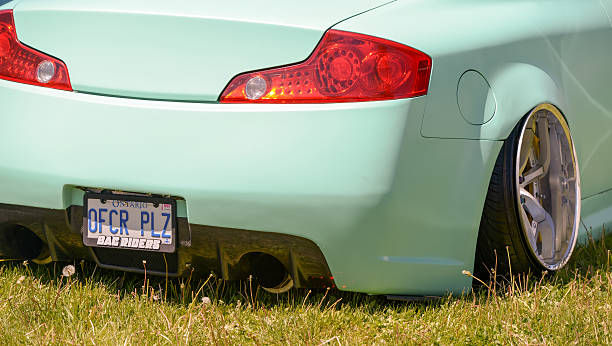licence: (74, 187, 188, 256)
